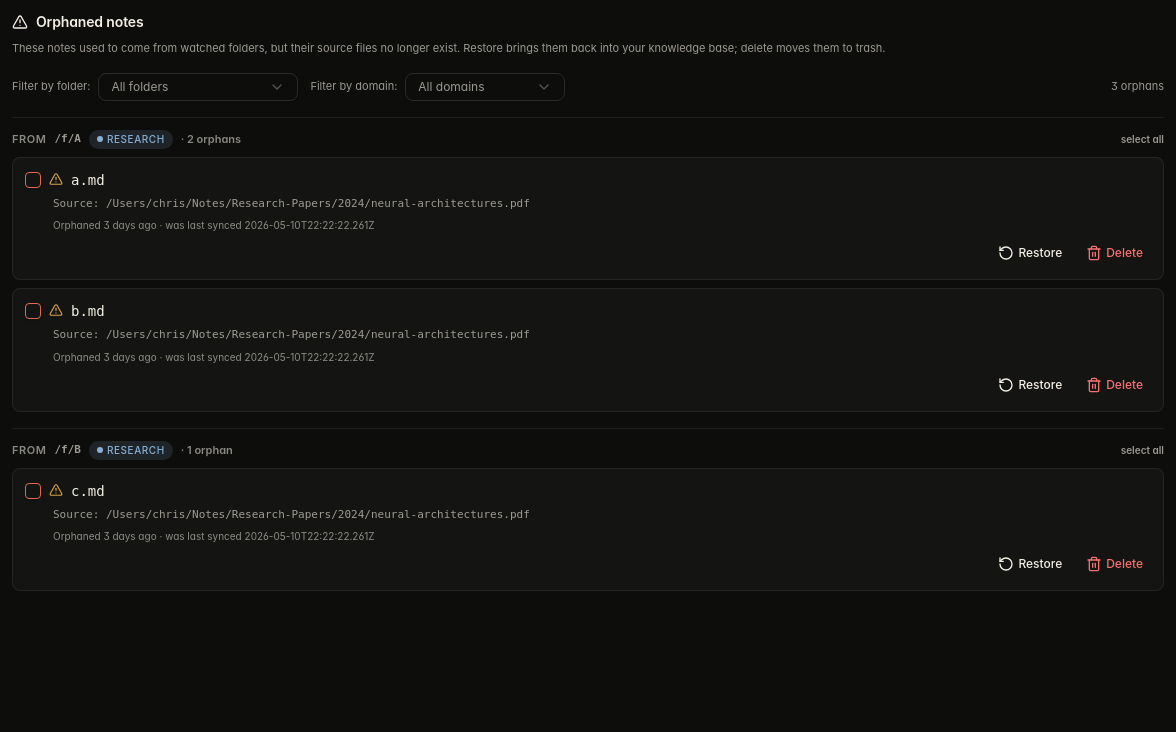
Test: PanelOrphans — bulk actions › 'select all' group toggle selects every row in the group
This screenshot has width=1176, height=732.
Check: the number of list items with test id "orphan-row" is 3, box 12,156 -> 1164,280; 12,288 -> 1164,412; 12,468 -> 1164,591
Click the button with test id "orphan-group-select-all-/f/A" at (1142, 139), box 1121,132 -> 1164,146
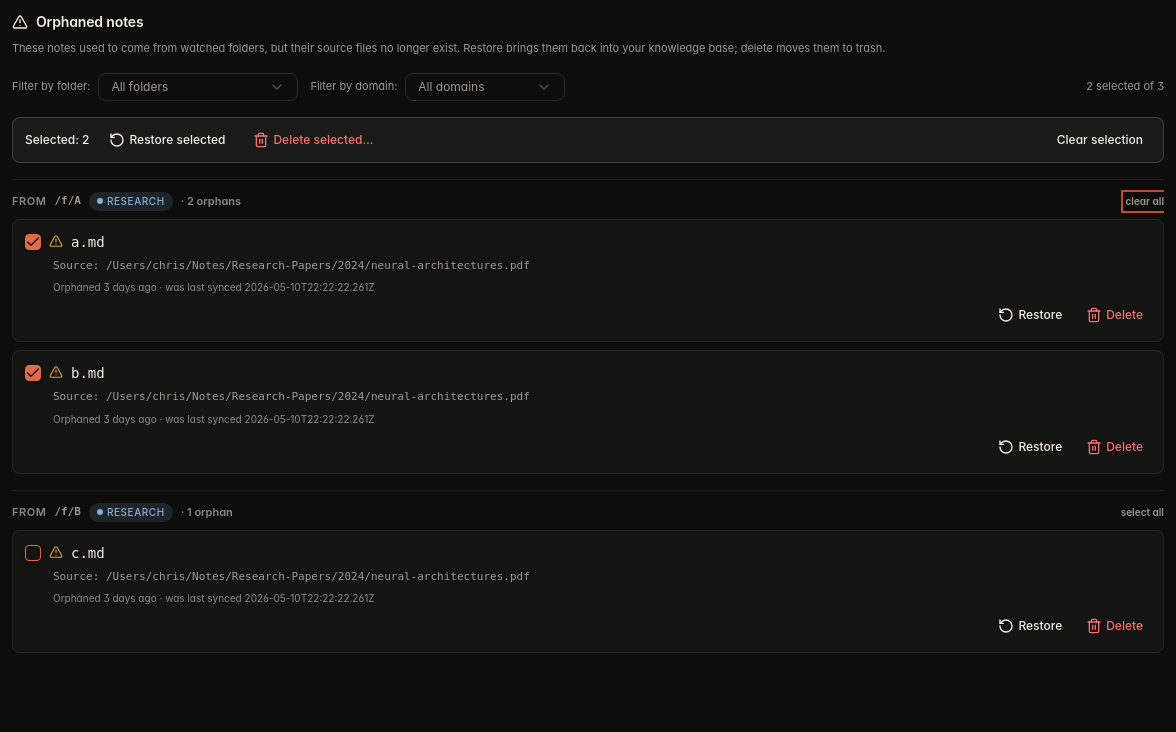
Check: the element with test id "orphans-bulk-bar" shows "Selected: 2", box 12,116 -> 1164,162
// Toggle again — clears the group selection.
Click the button with test id "orphan-group-select-all-/f/A" at (1145, 201), box 1125,194 -> 1164,208
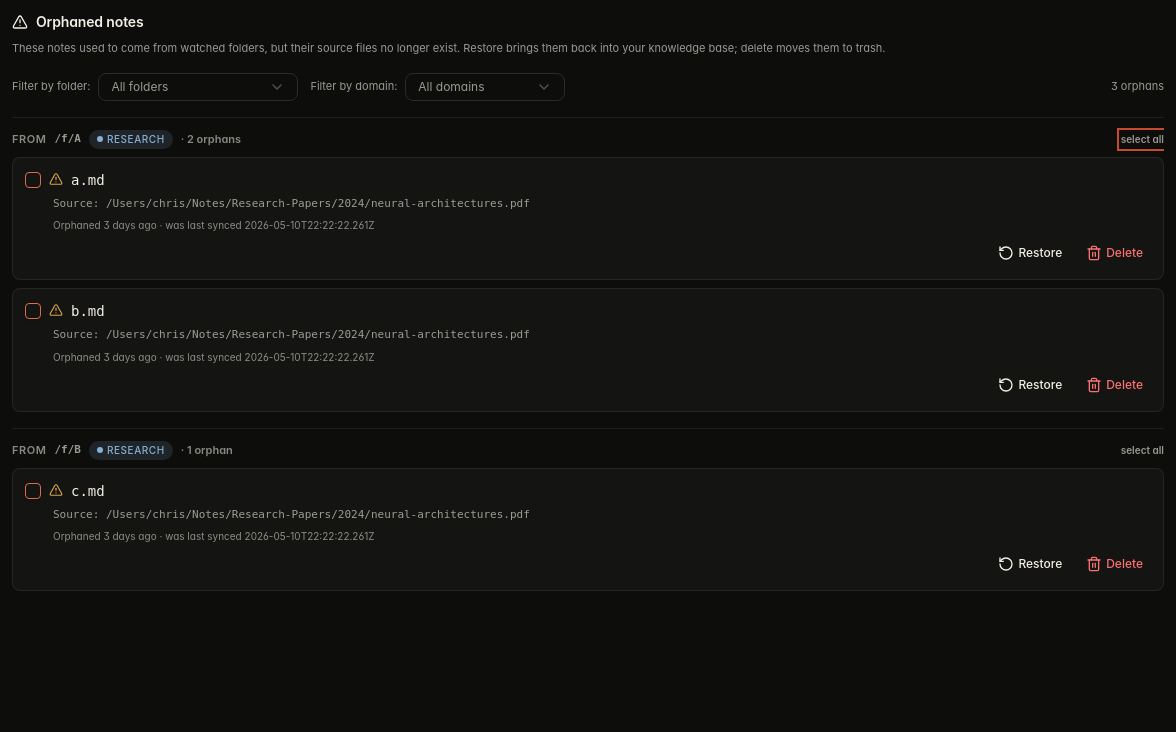
Check: the element with test id "orphans-bulk-bar" is gone
